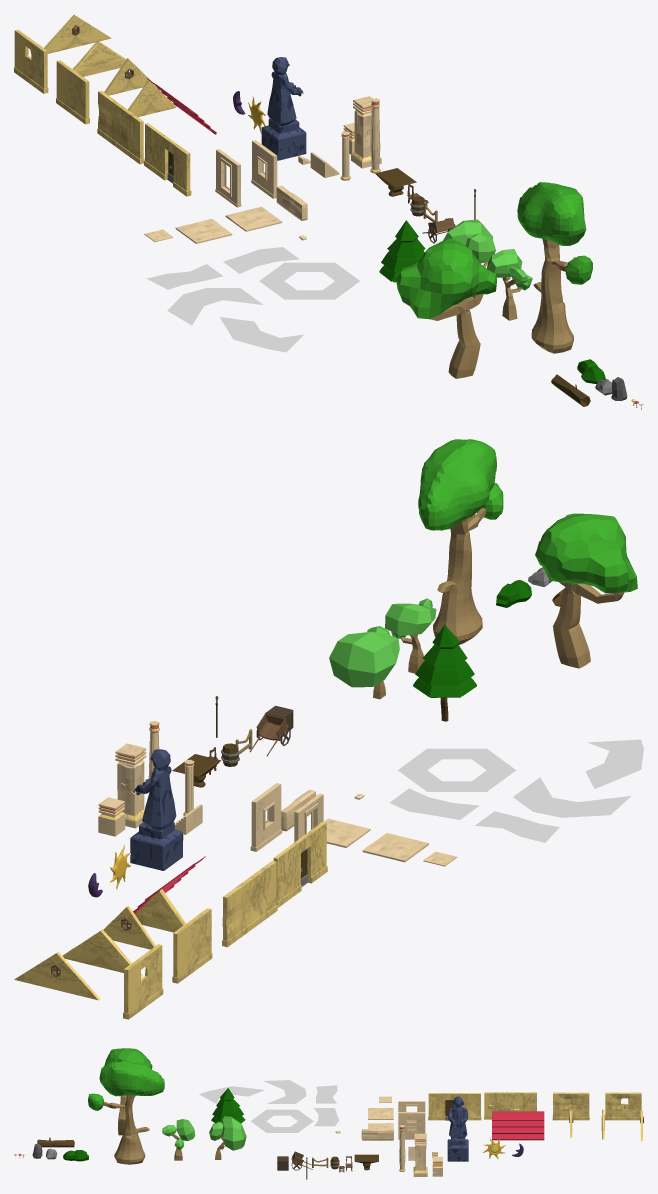
File: MEGAFUSION2.fbx
3 renders of one model, top to bottom at view 1: azimuth 30°, elevation 25°; view 2: azimuth 150°, elevation 25°; view 3: azimuth 270°, elevation 25°, orthographic. The views are drawn at different scales.
Parts seen in each view (by area): view 1: GrandArbre1, GrandArbre, Statut, Circulaire, MurVierge, MurPorte, PetitMurVIerge, PetitMurFenetre, arbreMoyen1, chemin.004, Sapin, chemin.002 (+15 smaller); view 2: GrandArbre1, GrandArbre, Statut, arbreMoyen2, Sapin, Circulaire, MurVierge, MurPorte, PetitMurVIerge, chemin.004, PetitMurFenetre, MoyenPilier (+14 smaller); view 3: GrandArbre1, Toit.001, Statut, MurVierge, MurPorte, PetitMurVIerge, PetitMurFenetre, arbreMoyen2, Circulaire, GrandArbre, arbreMoyen1, Sapin (+15 smaller).
Boxes of the visible parts, bbox=[...] form: GrandArbre1: bbox=[517, 182, 592, 353]; GrandArbre: bbox=[396, 238, 496, 378]; Statut: bbox=[261, 57, 306, 160]; Circulaire: bbox=[259, 262, 359, 299]; MurVierge: bbox=[97, 90, 144, 164]; MurPorte: bbox=[144, 123, 191, 196]; PetitMurVIerge: bbox=[56, 60, 89, 124]; PetitMurFenetre: bbox=[14, 29, 48, 93]; arbreMoyen1: bbox=[486, 249, 532, 320]; chemin.004: bbox=[167, 288, 262, 325]; Sapin: bbox=[379, 220, 425, 282]; chemin.002: bbox=[219, 317, 303, 352]; GrandArbre1: bbox=[418, 439, 503, 644]; GrandArbre: bbox=[535, 513, 637, 668]; Statut: bbox=[130, 749, 182, 870]; arbreMoyen2: bbox=[329, 626, 399, 699]; Sapin: bbox=[413, 625, 476, 721]; Circulaire: bbox=[398, 748, 516, 791]; MurVierge: bbox=[222, 860, 277, 947]; MurPorte: bbox=[273, 822, 327, 907]; PetitMurVIerge: bbox=[172, 908, 212, 983]; chemin.004: bbox=[513, 777, 630, 817]; PetitMurFenetre: bbox=[123, 944, 163, 1019]; MoyenPilier: bbox=[115, 743, 146, 828]; GrandArbre1: bbox=[88, 1061, 164, 1164]; Toit.001: bbox=[492, 1111, 544, 1140]; Statut: bbox=[447, 1096, 468, 1161]; MurVierge: bbox=[484, 1092, 536, 1119]; MurPorte: bbox=[428, 1093, 481, 1120]; PetitMurVIerge: bbox=[552, 1092, 589, 1120]; PetitMurFenetre: bbox=[605, 1092, 641, 1120]; arbreMoyen2: bbox=[209, 1116, 246, 1159]; Circulaire: bbox=[250, 1109, 313, 1132]; GrandArbre: bbox=[104, 1048, 152, 1135]; arbreMoyen1: bbox=[162, 1119, 195, 1160]; Sapin: bbox=[211, 1088, 245, 1123].
Bounding box in the file's own units: 4434 × 2111 × 11996.
